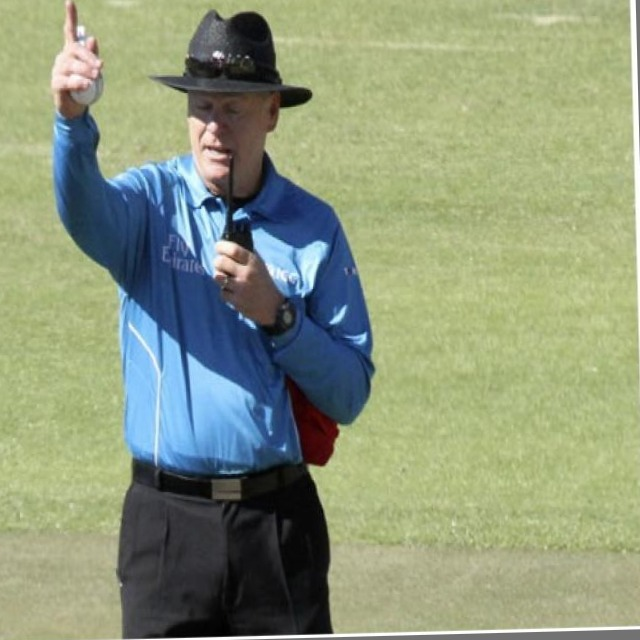Out: (33, 0, 386, 640)
